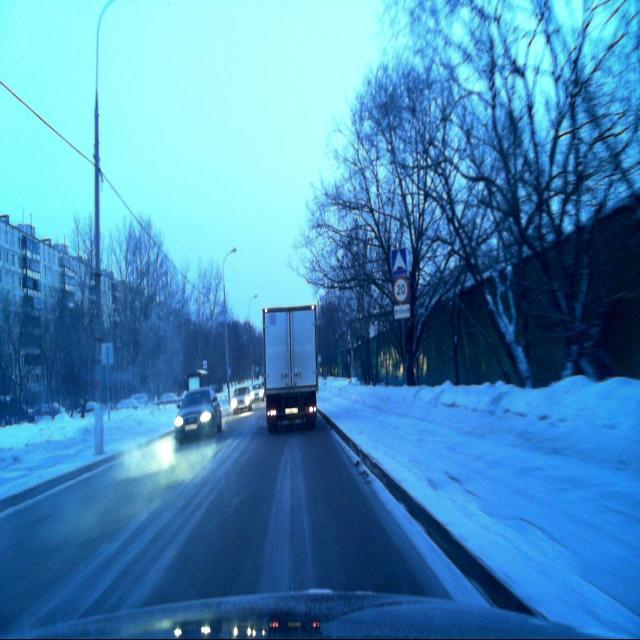road sign: (390, 248, 408, 277), (393, 303, 411, 319)
